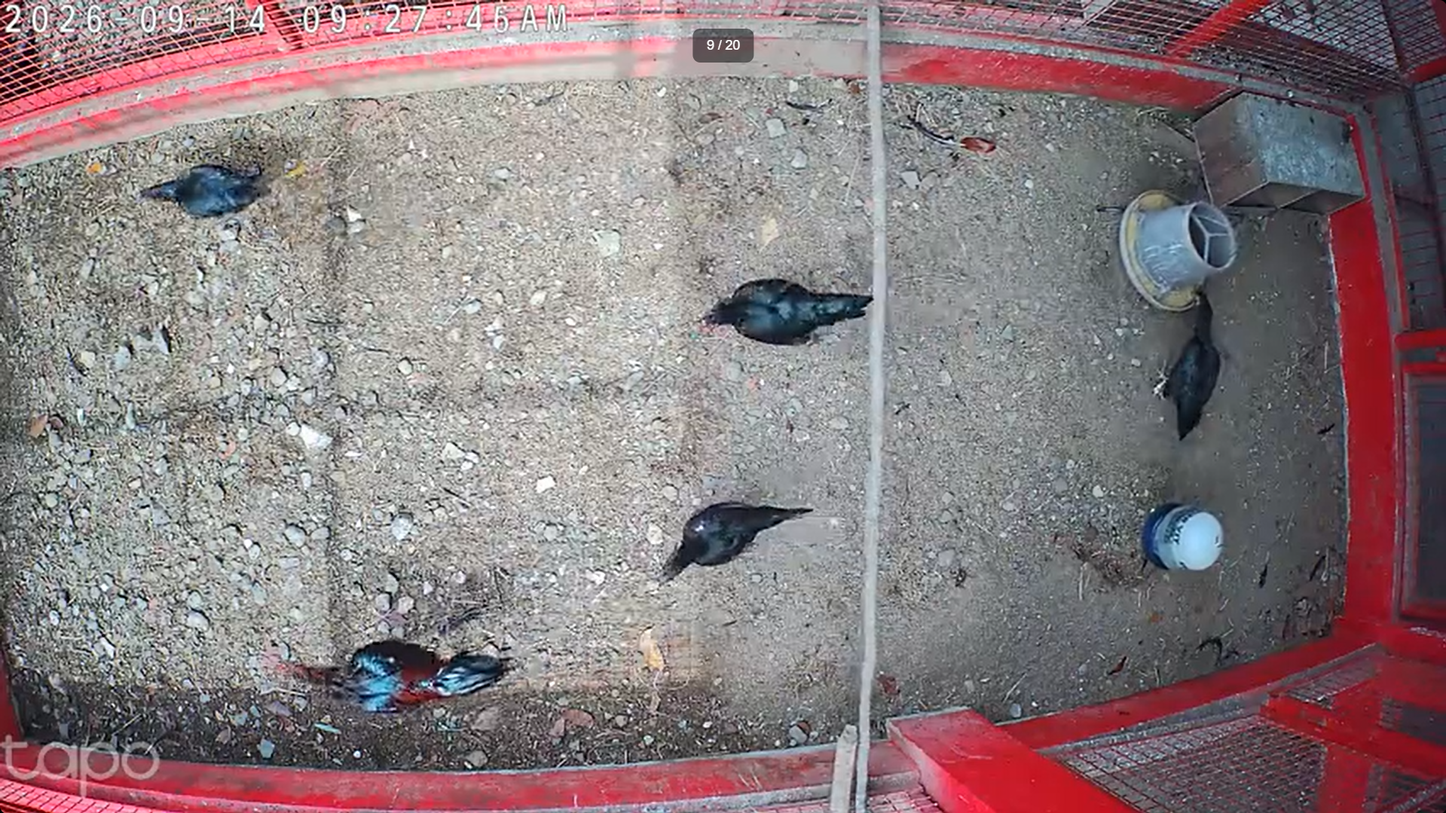Chicken: (1152, 281, 1226, 447)
